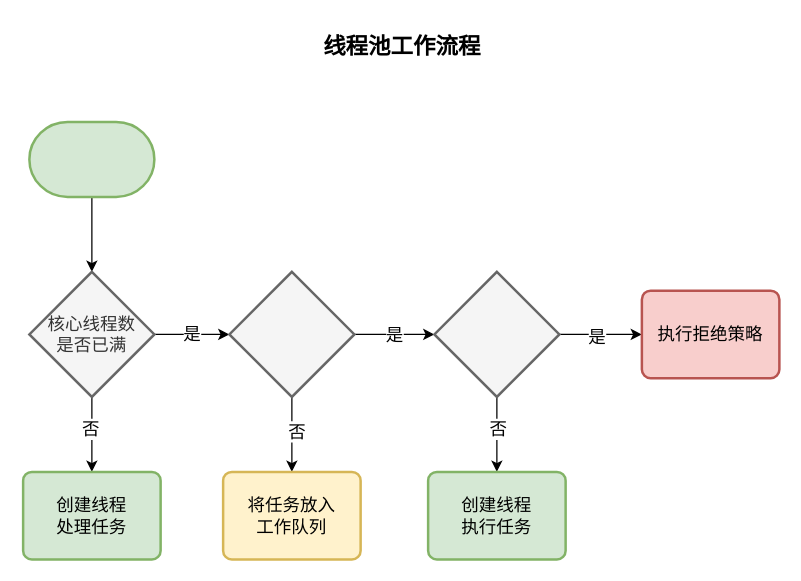
The diagram is 801 pixels wide and 581 high, and some of its shapes have lost their labels. The shapes that lost their labels are listed below. From the top down, each one's box as (x1, y1, x2, y2) in pixels, then its label:
(28, 120, 155, 198): 开始
(228, 270, 355, 398): 工作队列 是否已满
(432, 270, 560, 398): 是否已达 最大线程数
